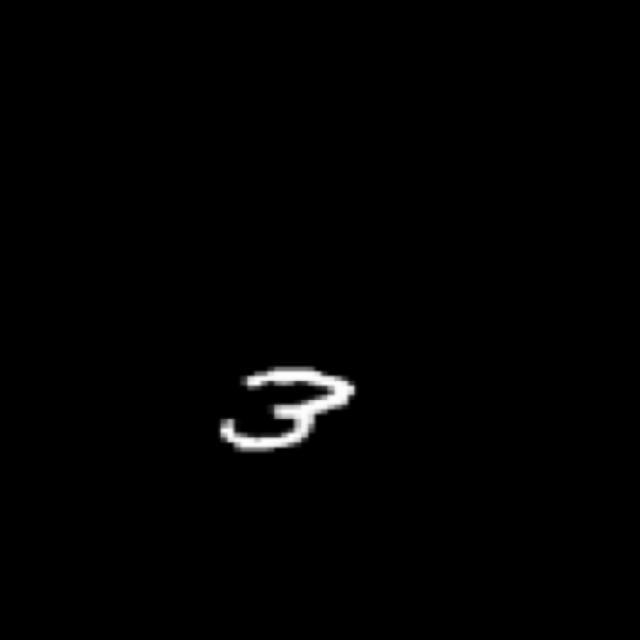three -3-: (206, 367, 365, 458)
